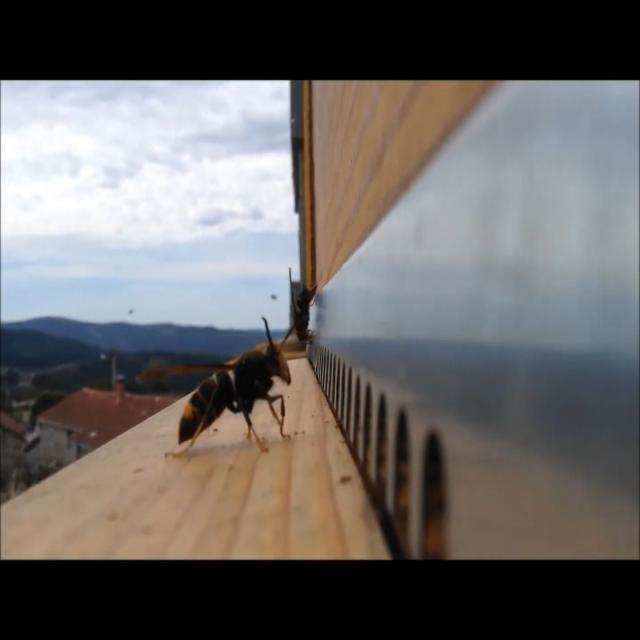Hornets: (142, 314, 298, 458), (283, 266, 315, 352)
